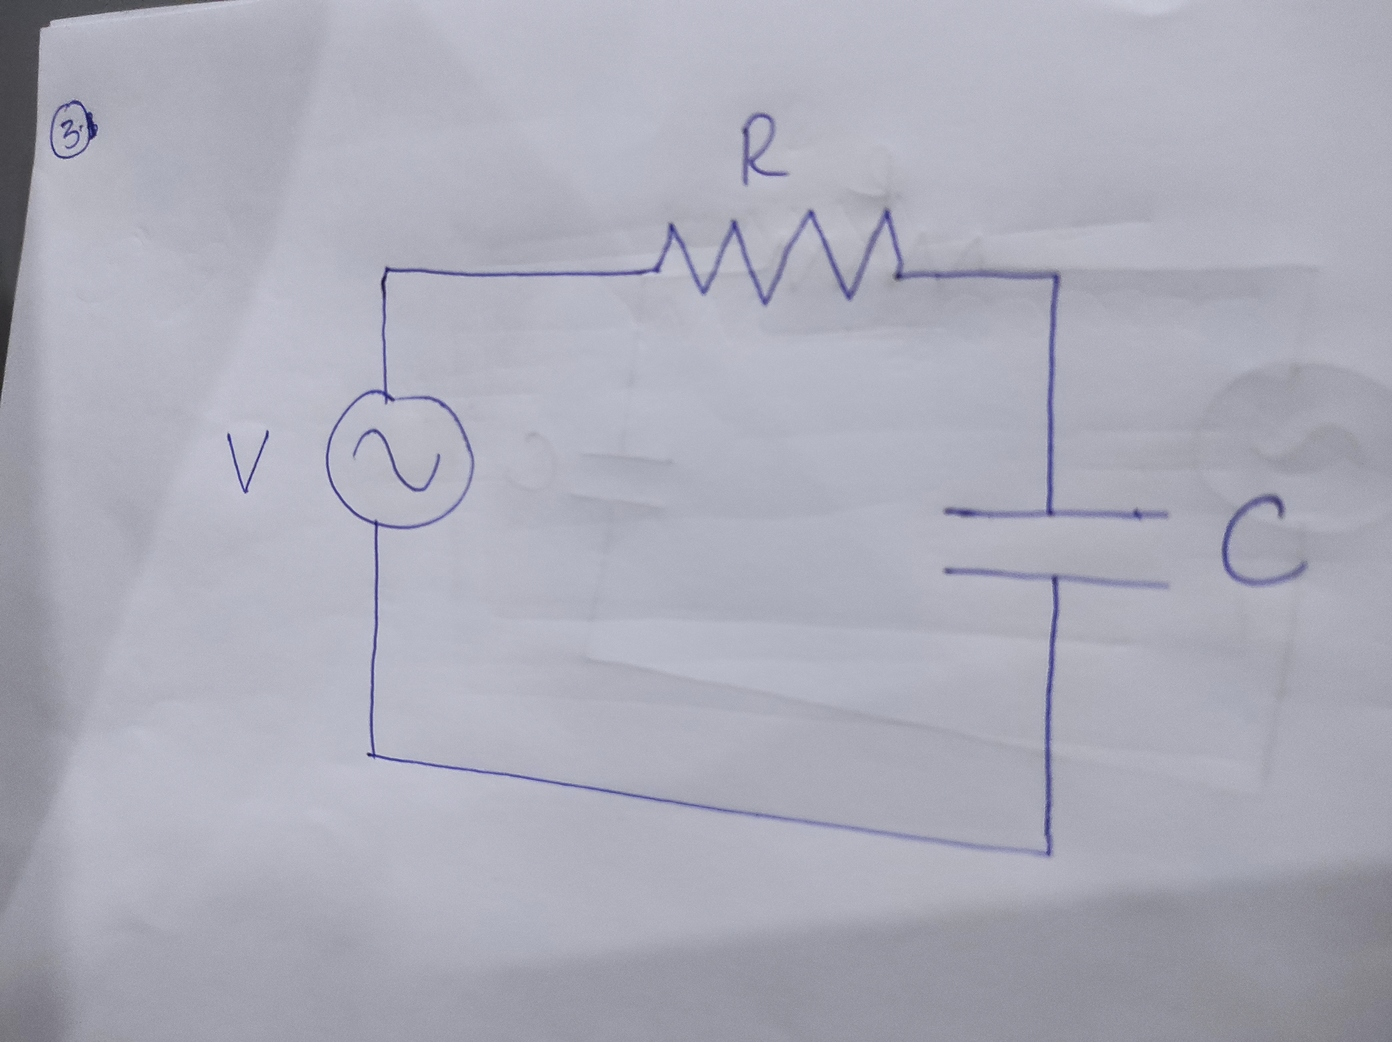capacitor.unpolarized: (933, 502, 1178, 595)
junction: (1032, 834, 1067, 870), (371, 254, 405, 291), (1034, 260, 1069, 292), (358, 738, 388, 769)
resistor: (649, 202, 913, 312)
text: (1213, 489, 1313, 590), (732, 107, 796, 187), (224, 424, 272, 494)
voltage.dc_ac: (318, 383, 483, 537)
